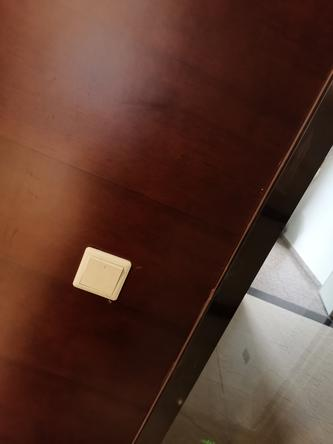switch: (72, 253, 127, 296)
